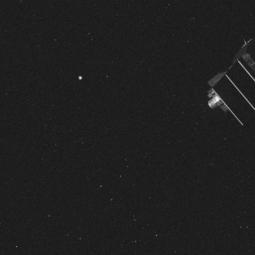soho: (190, 37, 255, 136)
